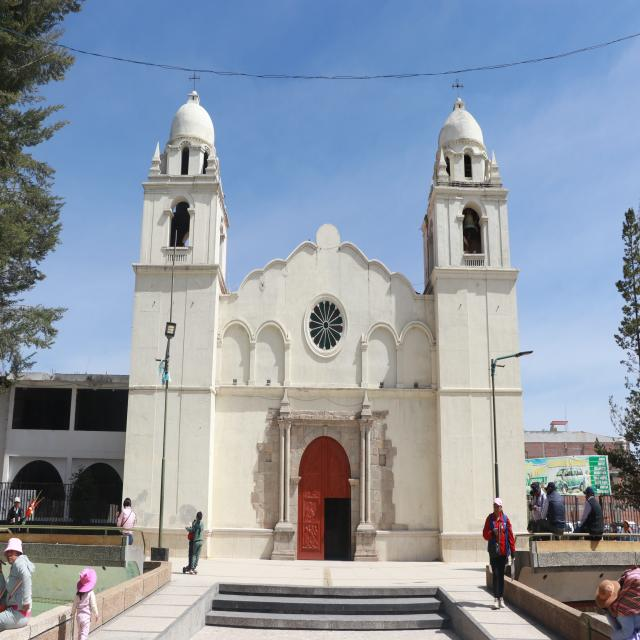CAMPANARIO: (132, 160, 235, 289), (425, 172, 516, 290)
CUPULA: (434, 94, 505, 191), (159, 80, 224, 166)
PORTADA CENTRAL: (271, 387, 380, 557)
SIMETRIA COLONIAL: (107, 45, 538, 572)
TORRES: (118, 58, 224, 568), (414, 78, 522, 564)
colonial-architecture-: (97, 42, 552, 570)
